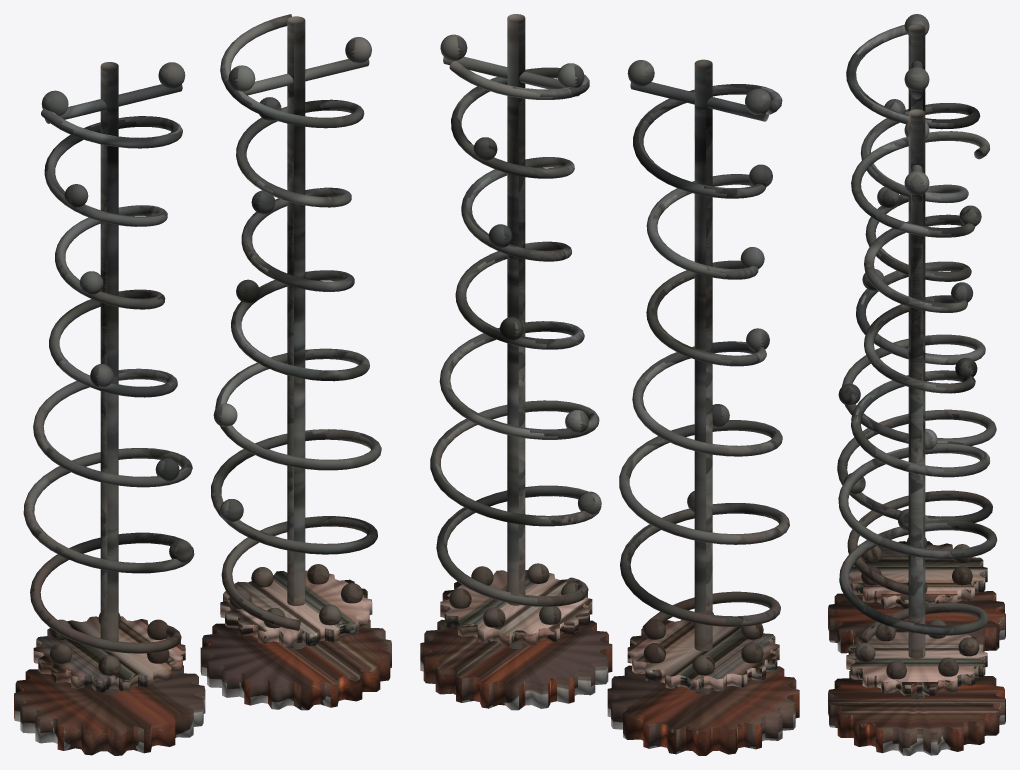
File: hy3d-esc-041.glb
The picture shows the model from 3 angles, left to right: view 1: azimuth 30°, elevation 25°; view 2: azimuth 150°, elevation 25°; view 3: azimuth 270°, elevation 25°; orthographic projection. The views are drawn at different scales.
Parts seen in each view (by area): view 1: world; view 2: world; view 3: world.
Boxes of the visible parts, <box> form: world: <box>14,14,391,755</box>; world: <box>420,14,799,755</box>; world: <box>828,14,1005,755</box>.
Bounding box in the file's own units: 0.6972 × 1.23 × 0.3273.
Materials: 1 (1 with a texture image).
